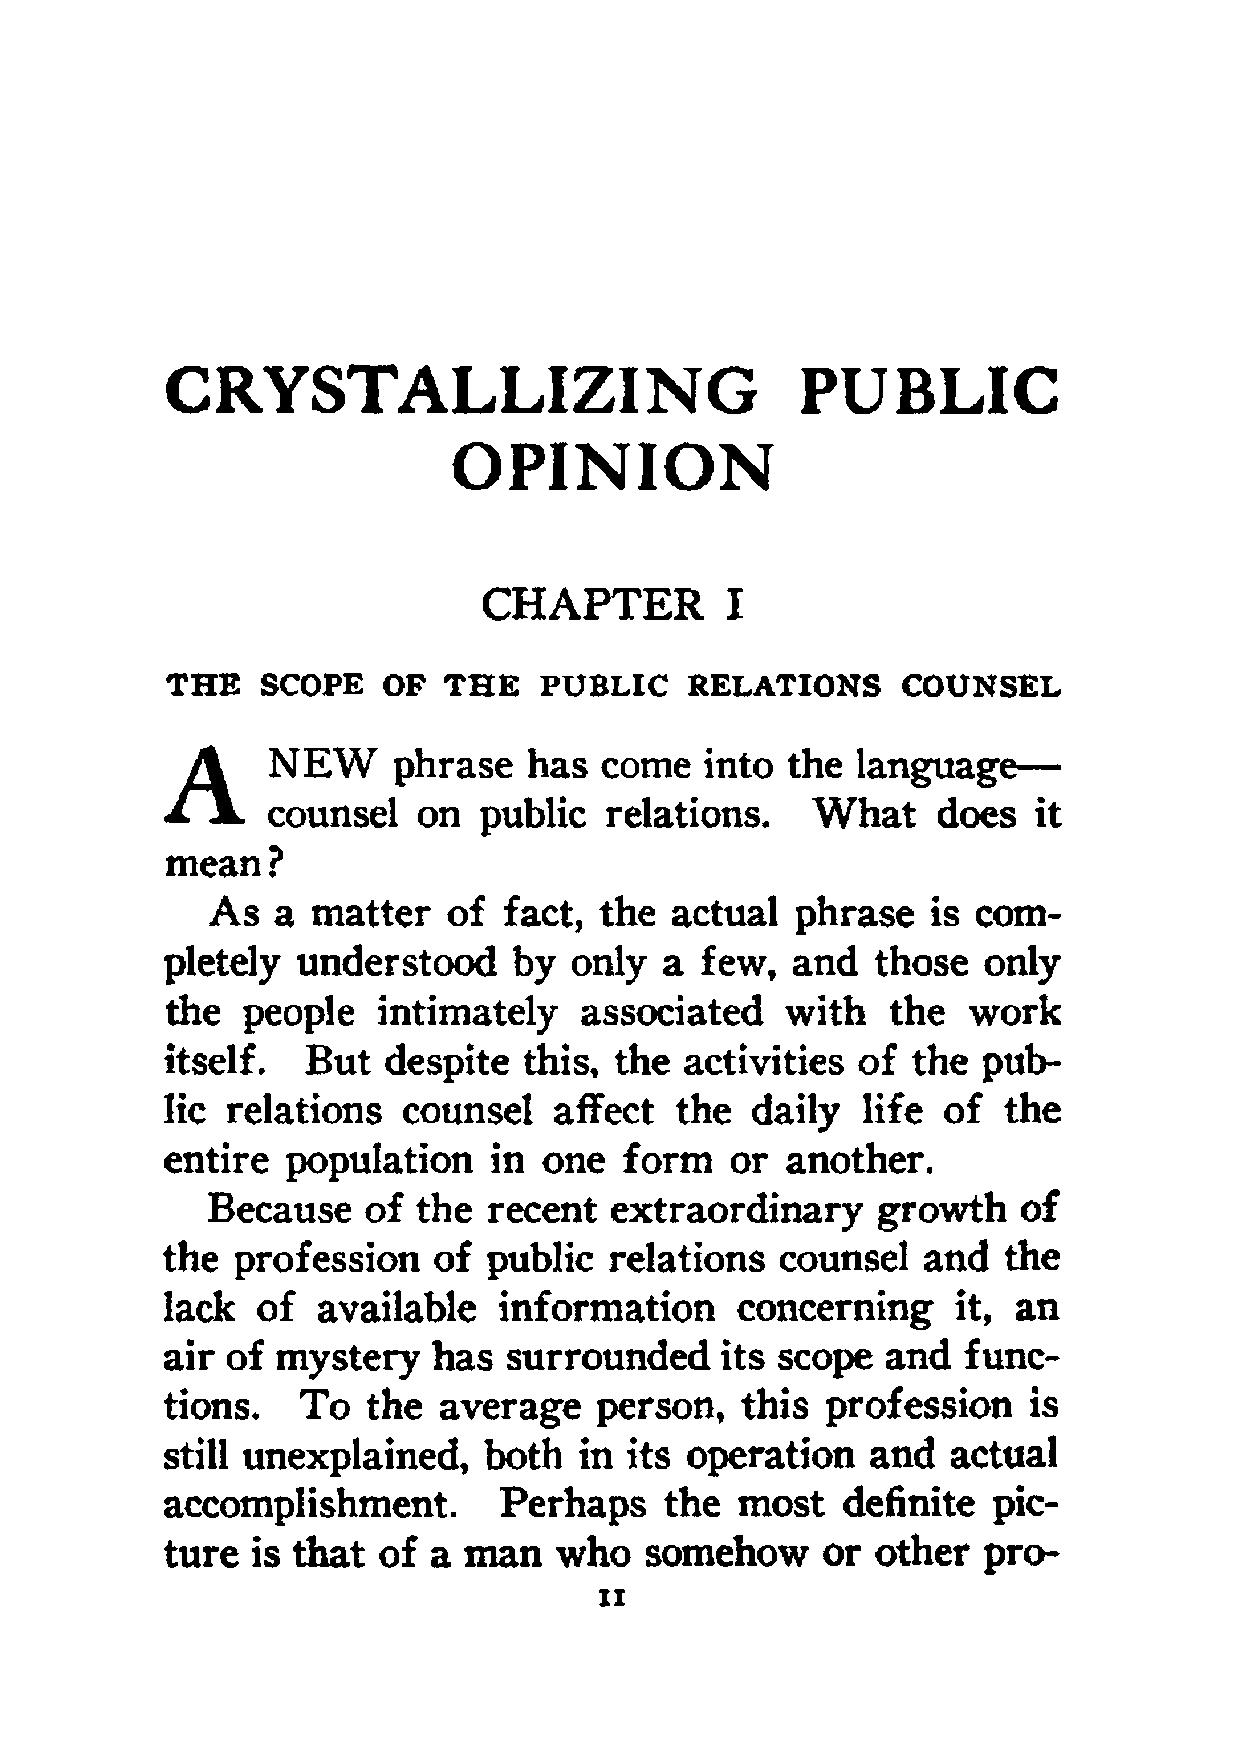chapter: (156, 356, 1066, 497), (161, 582, 1064, 701)
content: (156, 741, 1062, 1580)
content_pagenumber: (595, 1584, 627, 1613)
